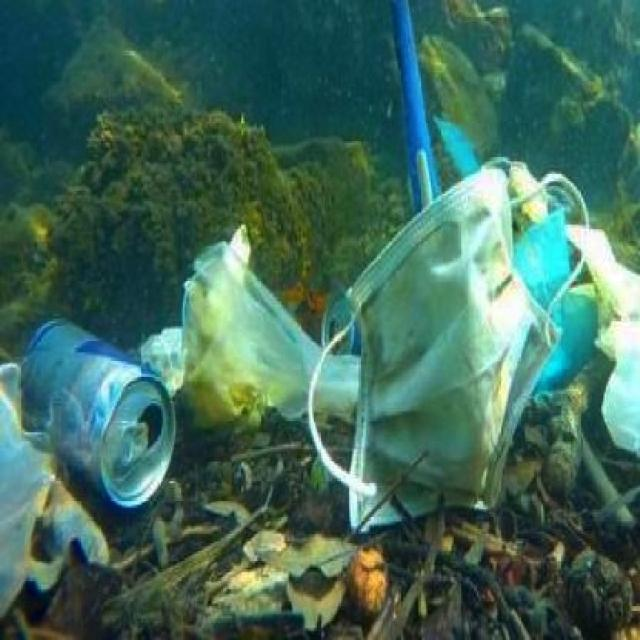Mask: (317, 161, 588, 517)
